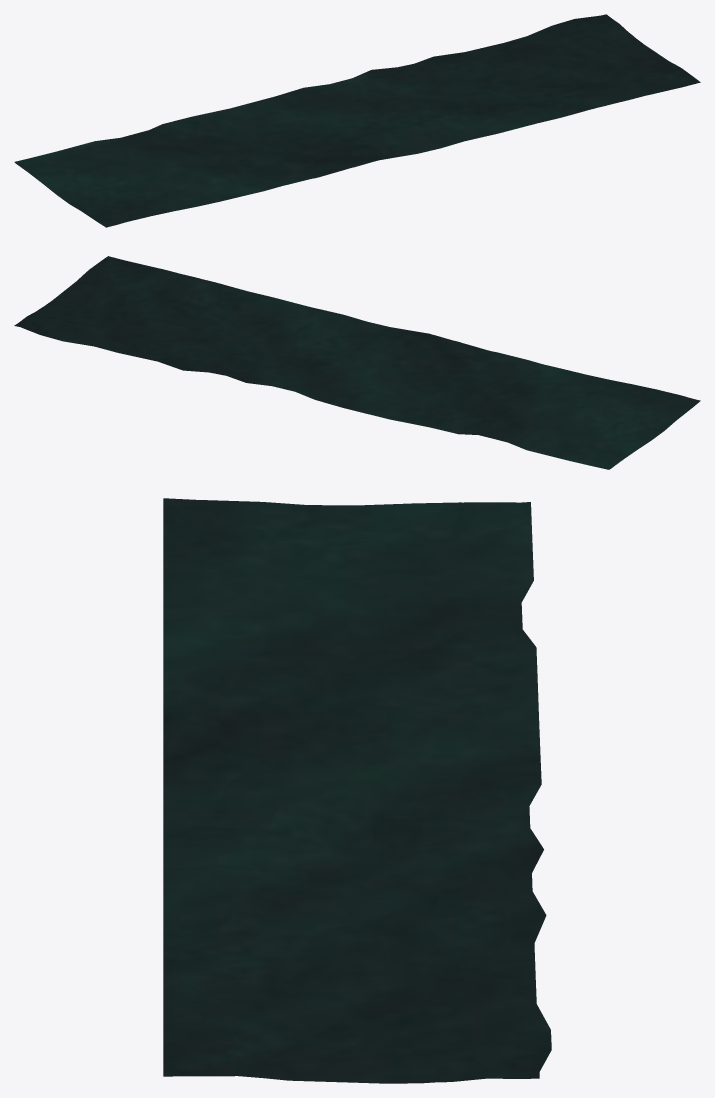
The picture shows the model from 3 angles, top to bottom: view 1: azimuth 30°, elevation 25°; view 2: azimuth 150°, elevation 25°; view 3: azimuth 270°, elevation 25°; orthographic projection. The views are drawn at different scales.
Size of the model in its own units: 104 by 0.7902 by 29.65.
1 material, 1 textured.
